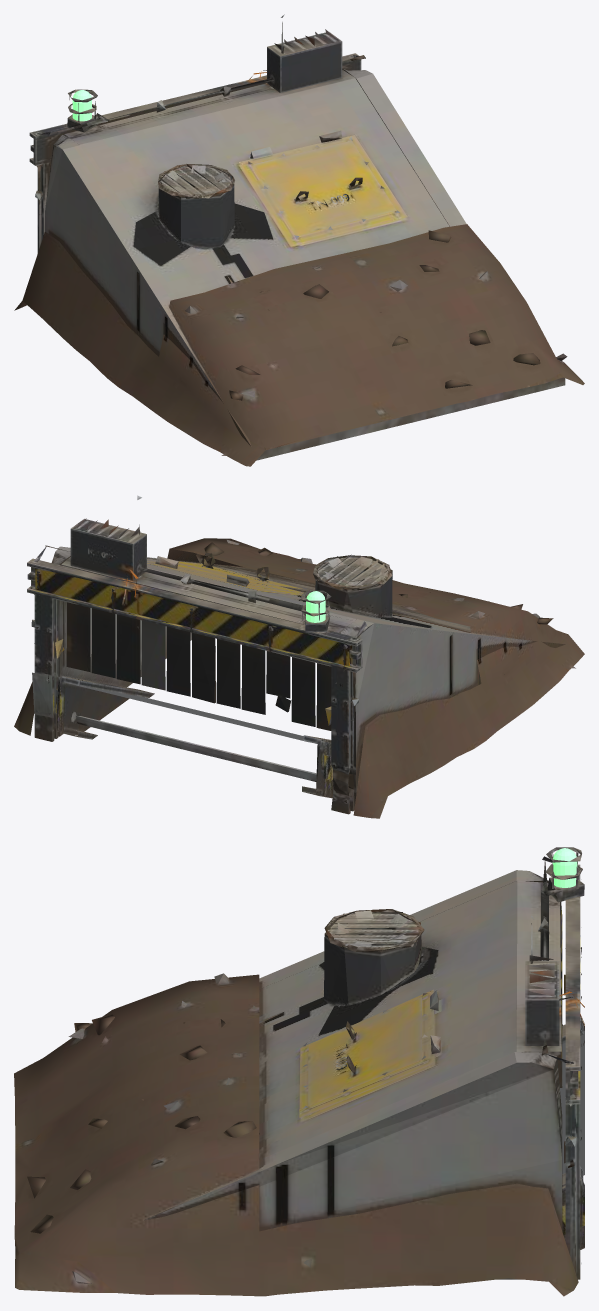
File: esteira_tunel_saida.glb
The picture shows the model from 3 angles, top to bottom: view 1: azimuth 30°, elevation 25°; view 2: azimuth 150°, elevation 25°; view 3: azimuth 270°, elevation 25°; orthographic projection. The views are drawn at different scales.
Parts seen in each view (by area): view 1: esteira_tunel_saida_corpo; view 2: esteira_tunel_saida_corpo; view 3: esteira_tunel_saida_corpo.
Boxes of the visible parts, x1,y1,x2,y2 form: esteira_tunel_saida_corpo: [14, 14, 584, 466]; esteira_tunel_saida_corpo: [14, 495, 584, 818]; esteira_tunel_saida_corpo: [14, 847, 584, 1296].
Size of the model in its own units: 0.9416 by 0.6061 by 1.
Materials: 4 (1 with a texture image).
